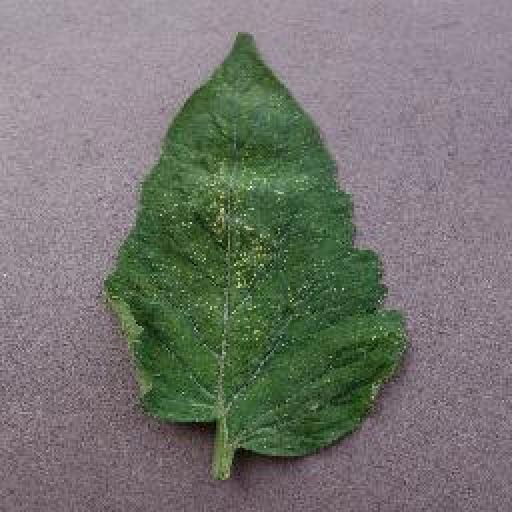disease_tomato: (108, 28, 410, 458)
